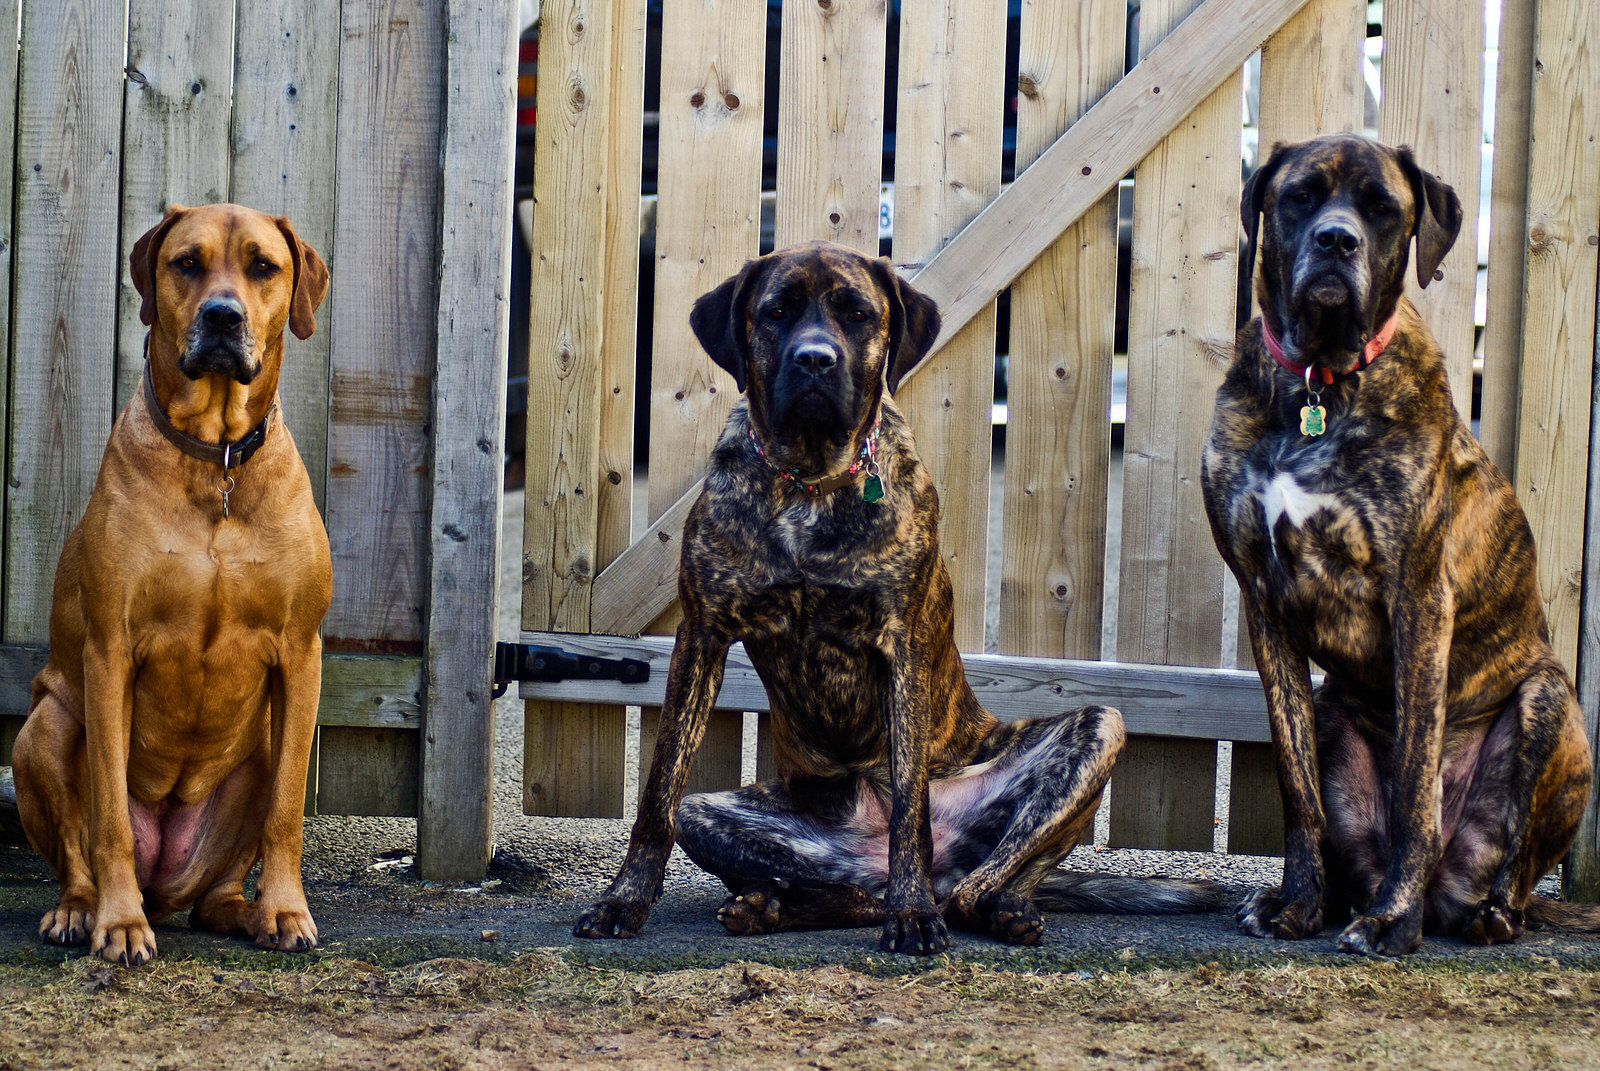other_dog_breed: (572, 244, 1124, 957), (1197, 129, 1593, 954), (12, 200, 335, 966)
